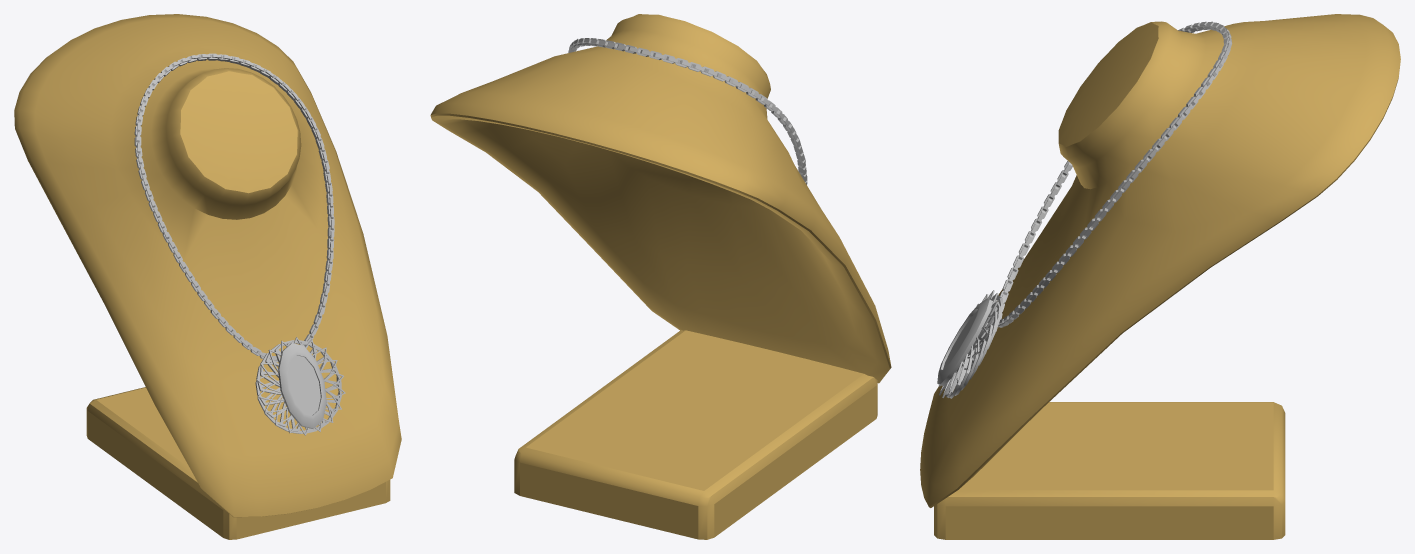
File: Necklace_15.fbx
3 views of the same model, side by side, from view 1: azimuth 30°, elevation 25°; view 2: azimuth 150°, elevation 25°; view 3: azimuth 270°, elevation 25° (orthographic). The views are drawn at different scales.
Parts seen in each view (by area): view 1: SM_Stand_Necklace_12, SM_Cullon_3, SM_Necklace_13; view 2: SM_Stand_Necklace_12, SM_Necklace_13; view 3: SM_Stand_Necklace_12, SM_Necklace_13, SM_Cullon_3.
Boxes of the visible parts, bbox=[...] form: SM_Stand_Necklace_12: bbox=[14, 14, 401, 539]; SM_Cullon_3: bbox=[255, 337, 345, 435]; SM_Necklace_13: bbox=[134, 53, 334, 362]; SM_Stand_Necklace_12: bbox=[430, 14, 891, 539]; SM_Necklace_13: bbox=[568, 38, 807, 184]; SM_Stand_Necklace_12: bbox=[920, 14, 1400, 539]; SM_Necklace_13: bbox=[998, 21, 1232, 327]; SM_Cullon_3: bbox=[937, 290, 1003, 398].
Bounding box in the file's own units: 22.51 × 29.29 × 27.78.
